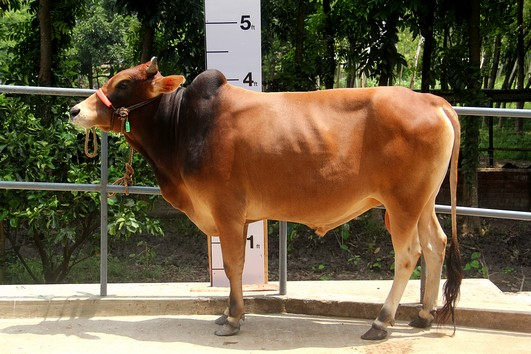cow: (62, 53, 472, 344)
